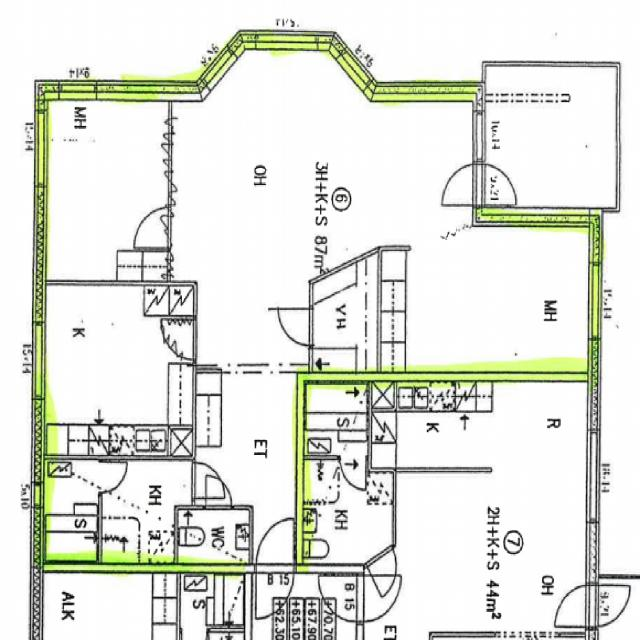door: (257, 563, 294, 618), (257, 518, 294, 572), (440, 164, 485, 204), (473, 164, 518, 204), (279, 308, 313, 345), (192, 461, 224, 498), (206, 472, 231, 508), (99, 461, 126, 491)
